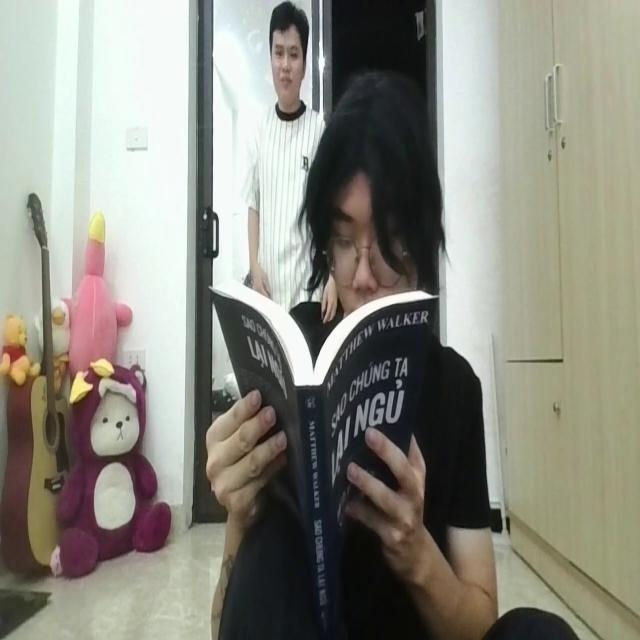book: (211, 270, 429, 619)
extra_person: (244, 4, 342, 326)
student: (208, 64, 494, 640)
